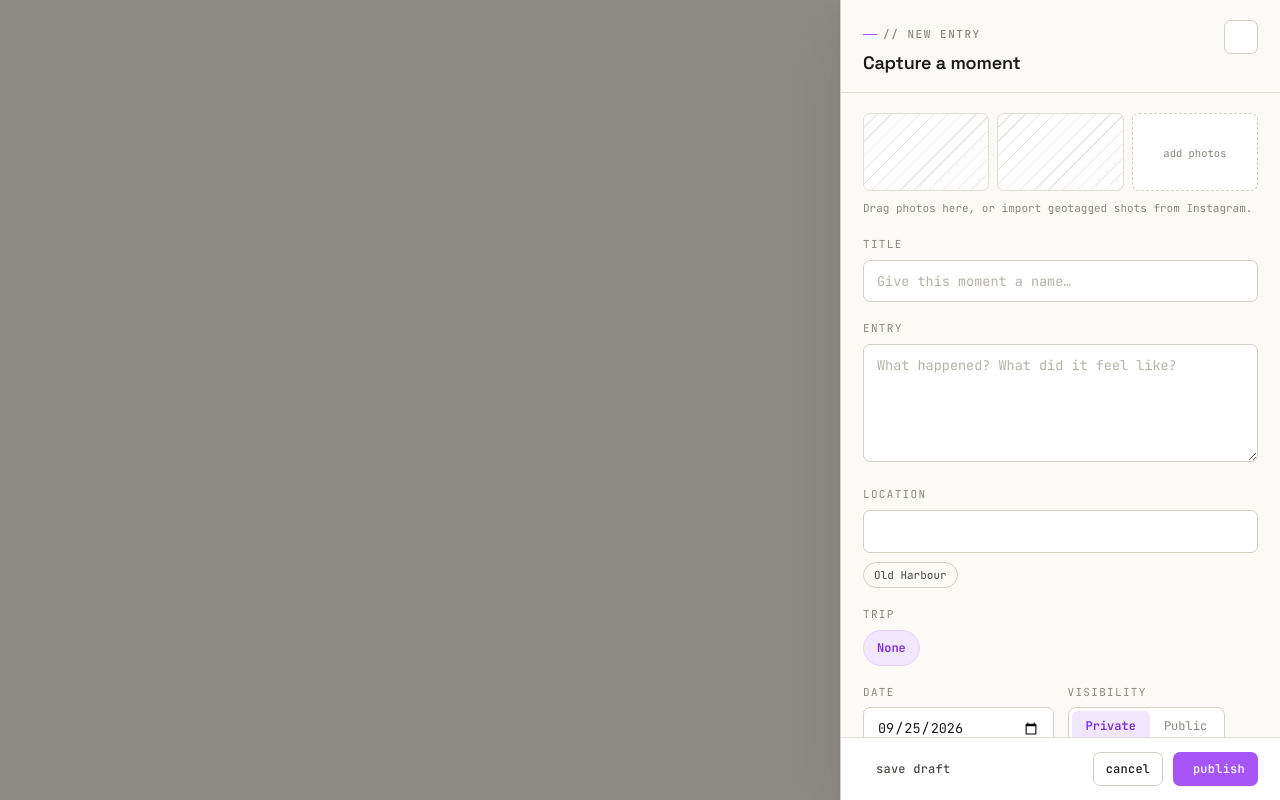
Test: AppNewEntry › offers inline place creation when the typed location matches no saved place
This screenshot has width=1280, height=800.
Step 1. Type "Blue Lagoon" into the field with test id "location-input" → (1060, 531), box [863,510,1258,553]
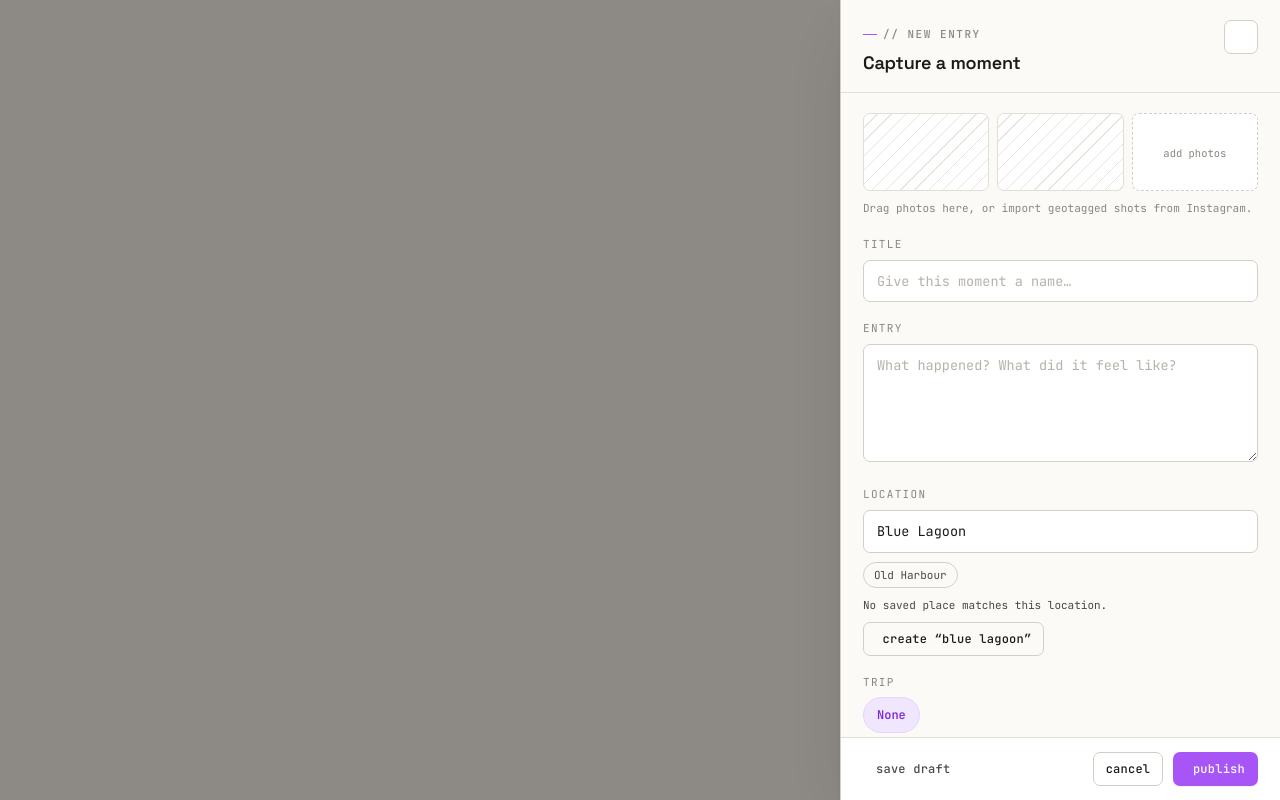
expect the element with class "location-create" is shown: met, box [863,598,1107,656]
expect the element with class "location-create" shows "Blue Lagoon": met, box [863,622,1044,656]
